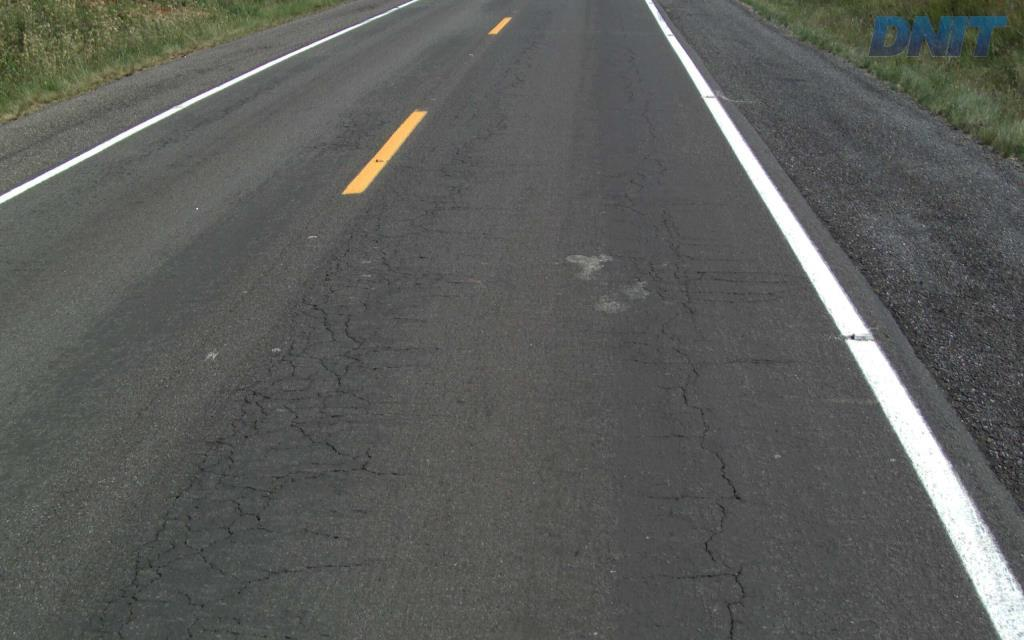crack: (676, 565, 747, 630), (109, 550, 154, 604)
